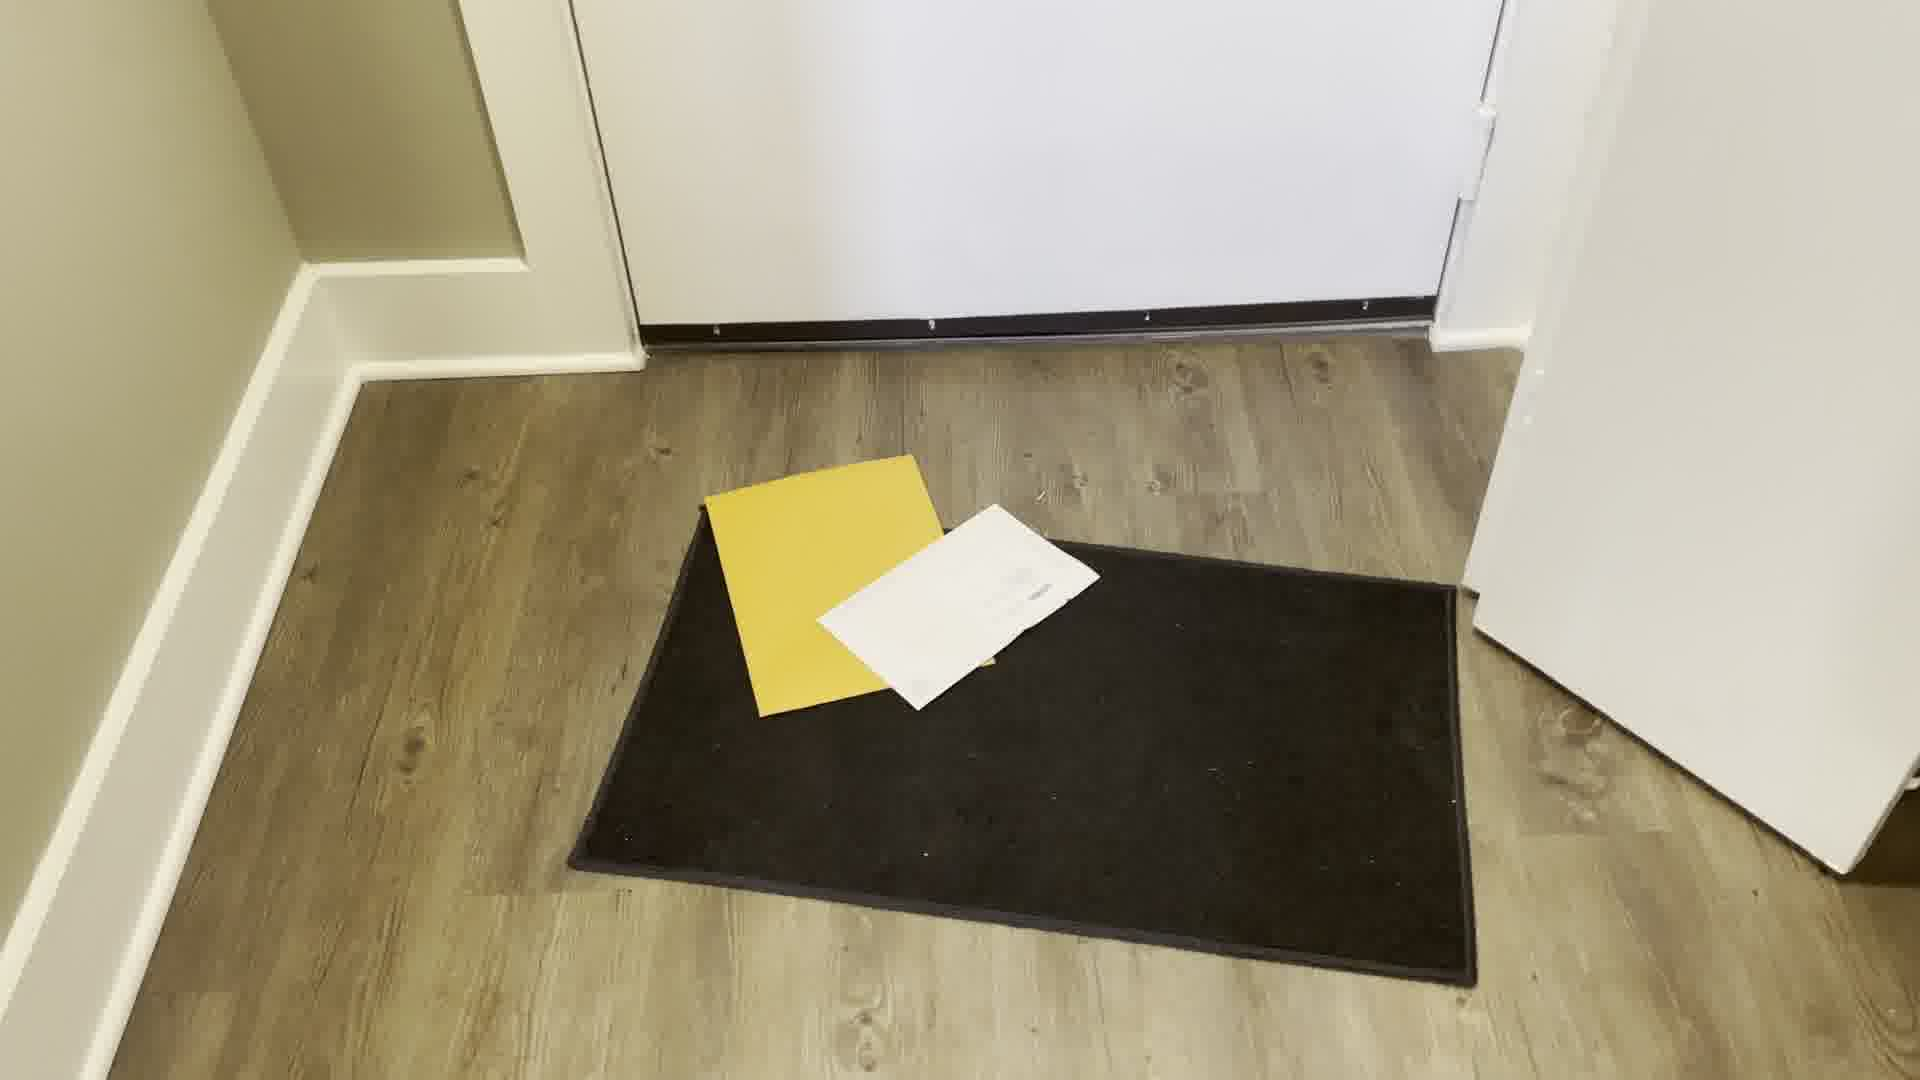envelope: (680, 443, 932, 719), (819, 502, 1104, 705)
